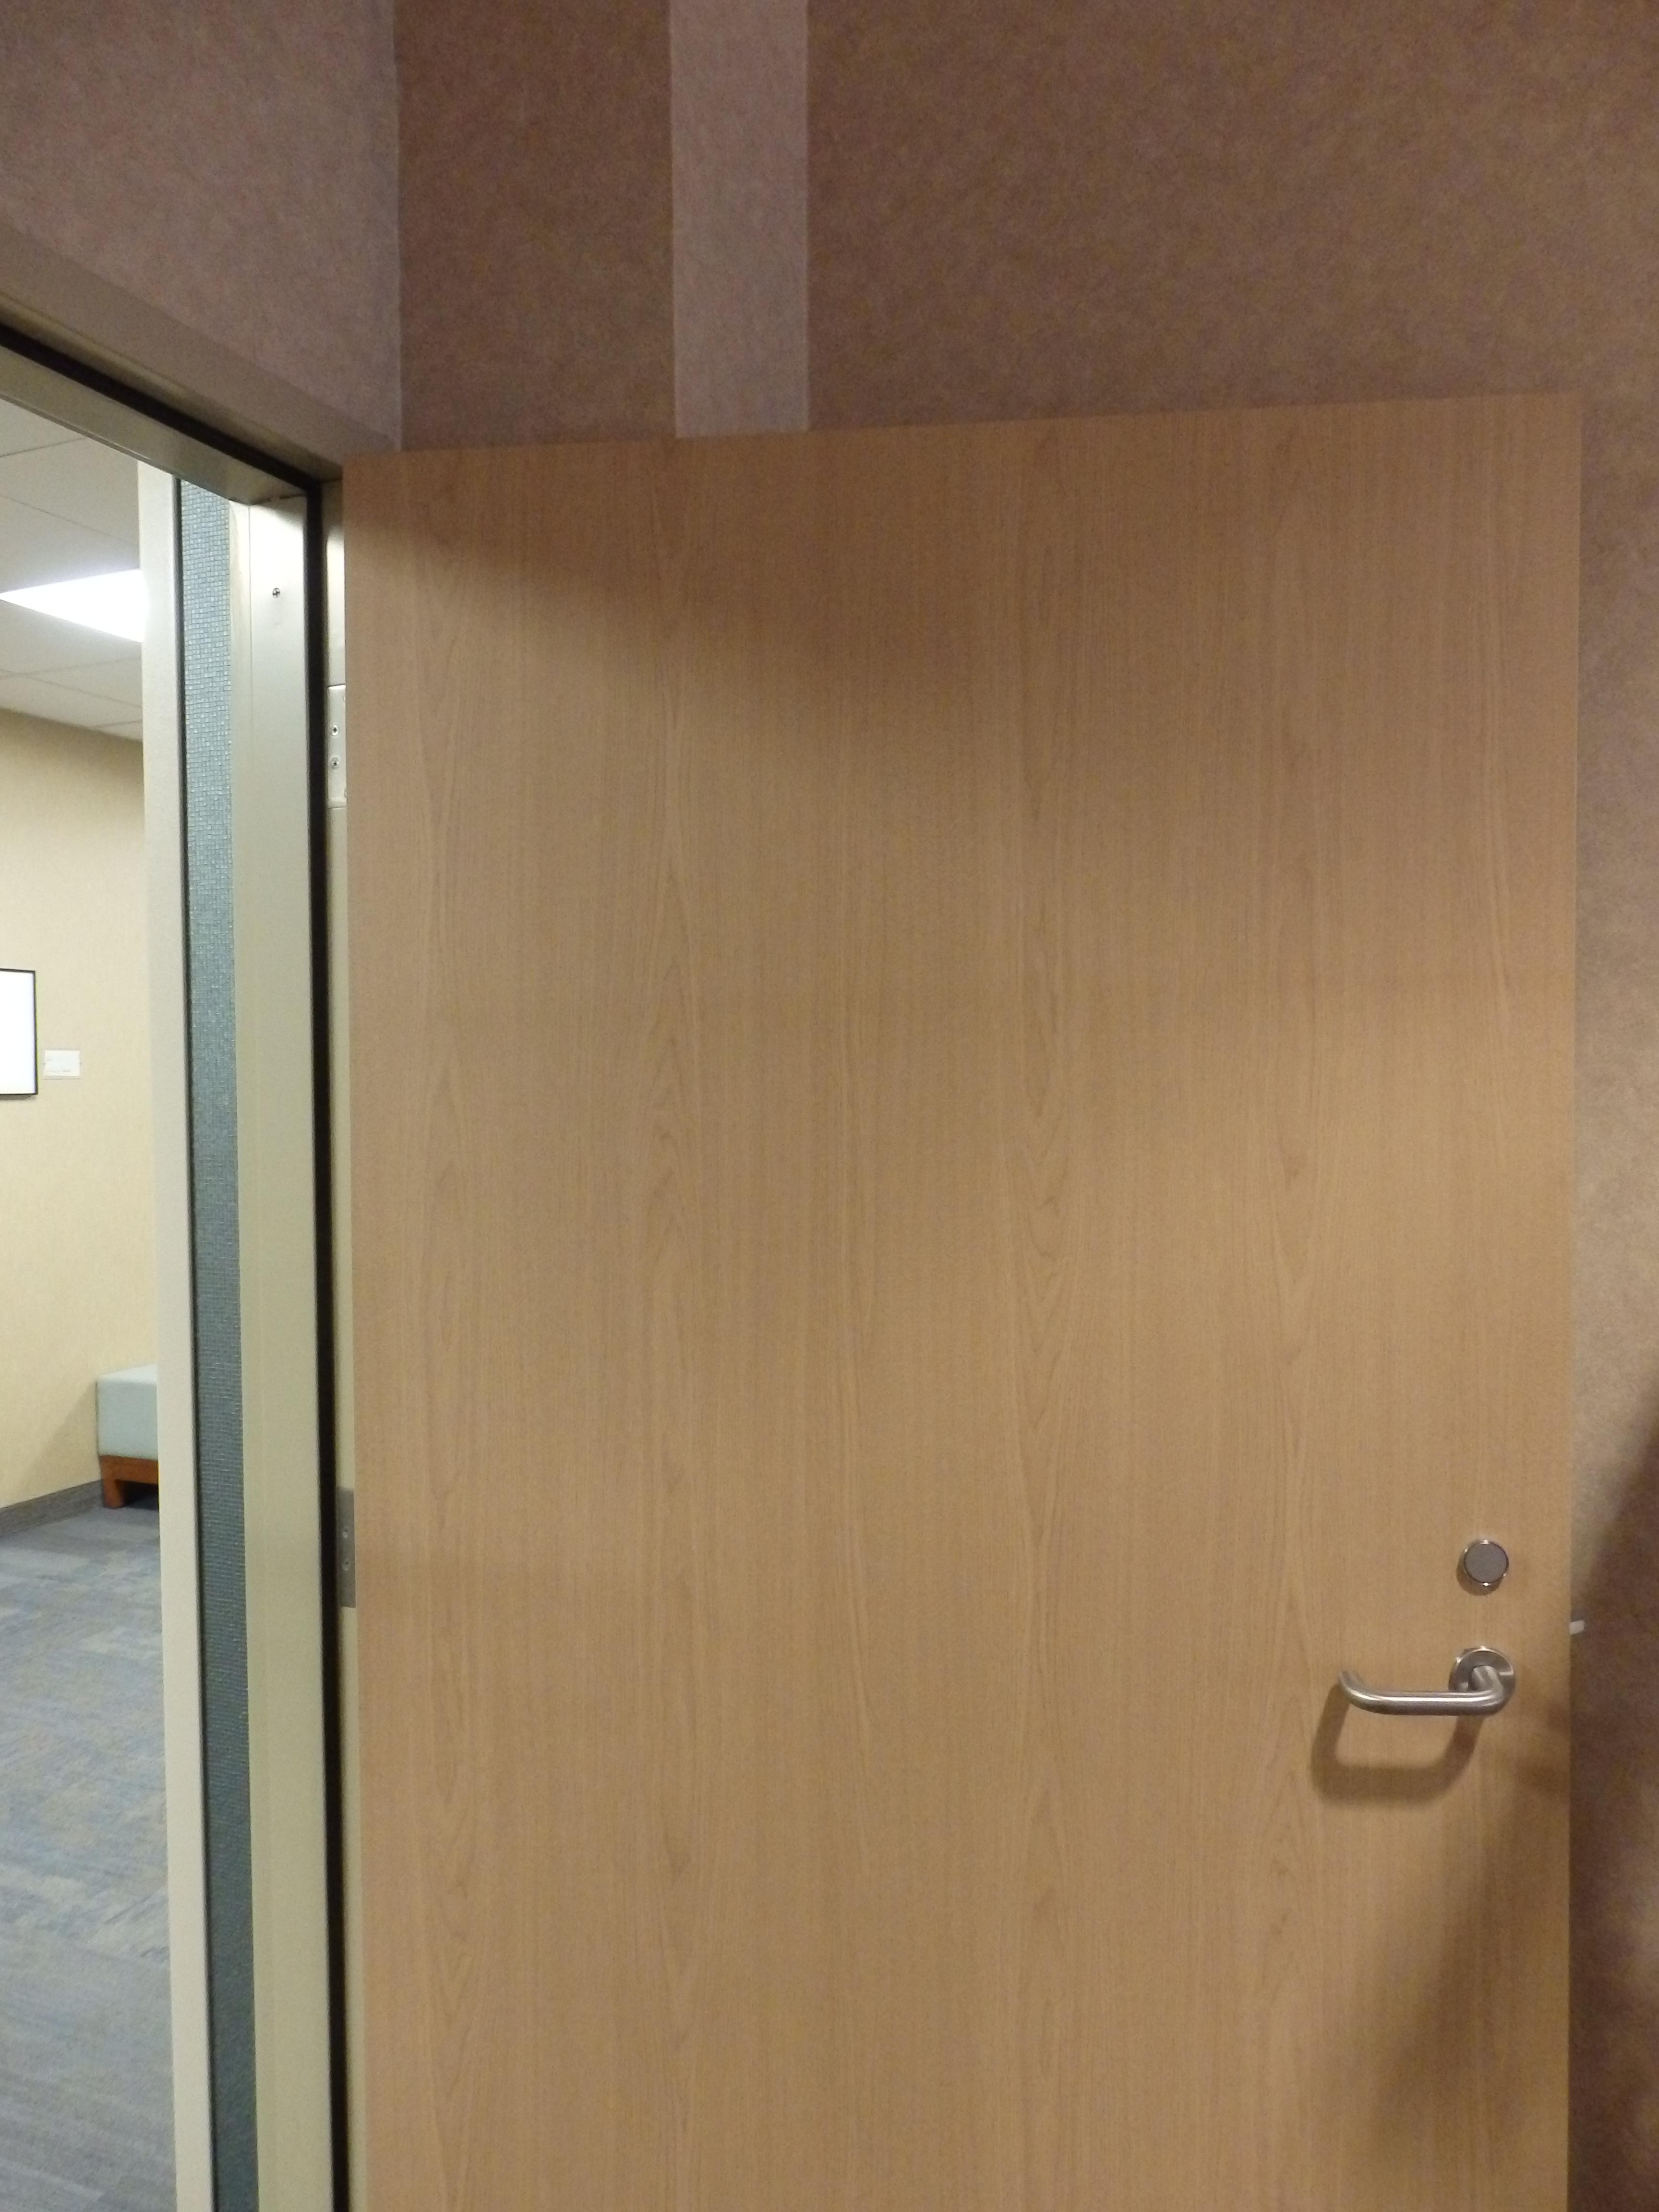door: (0, 218, 1577, 2209)
